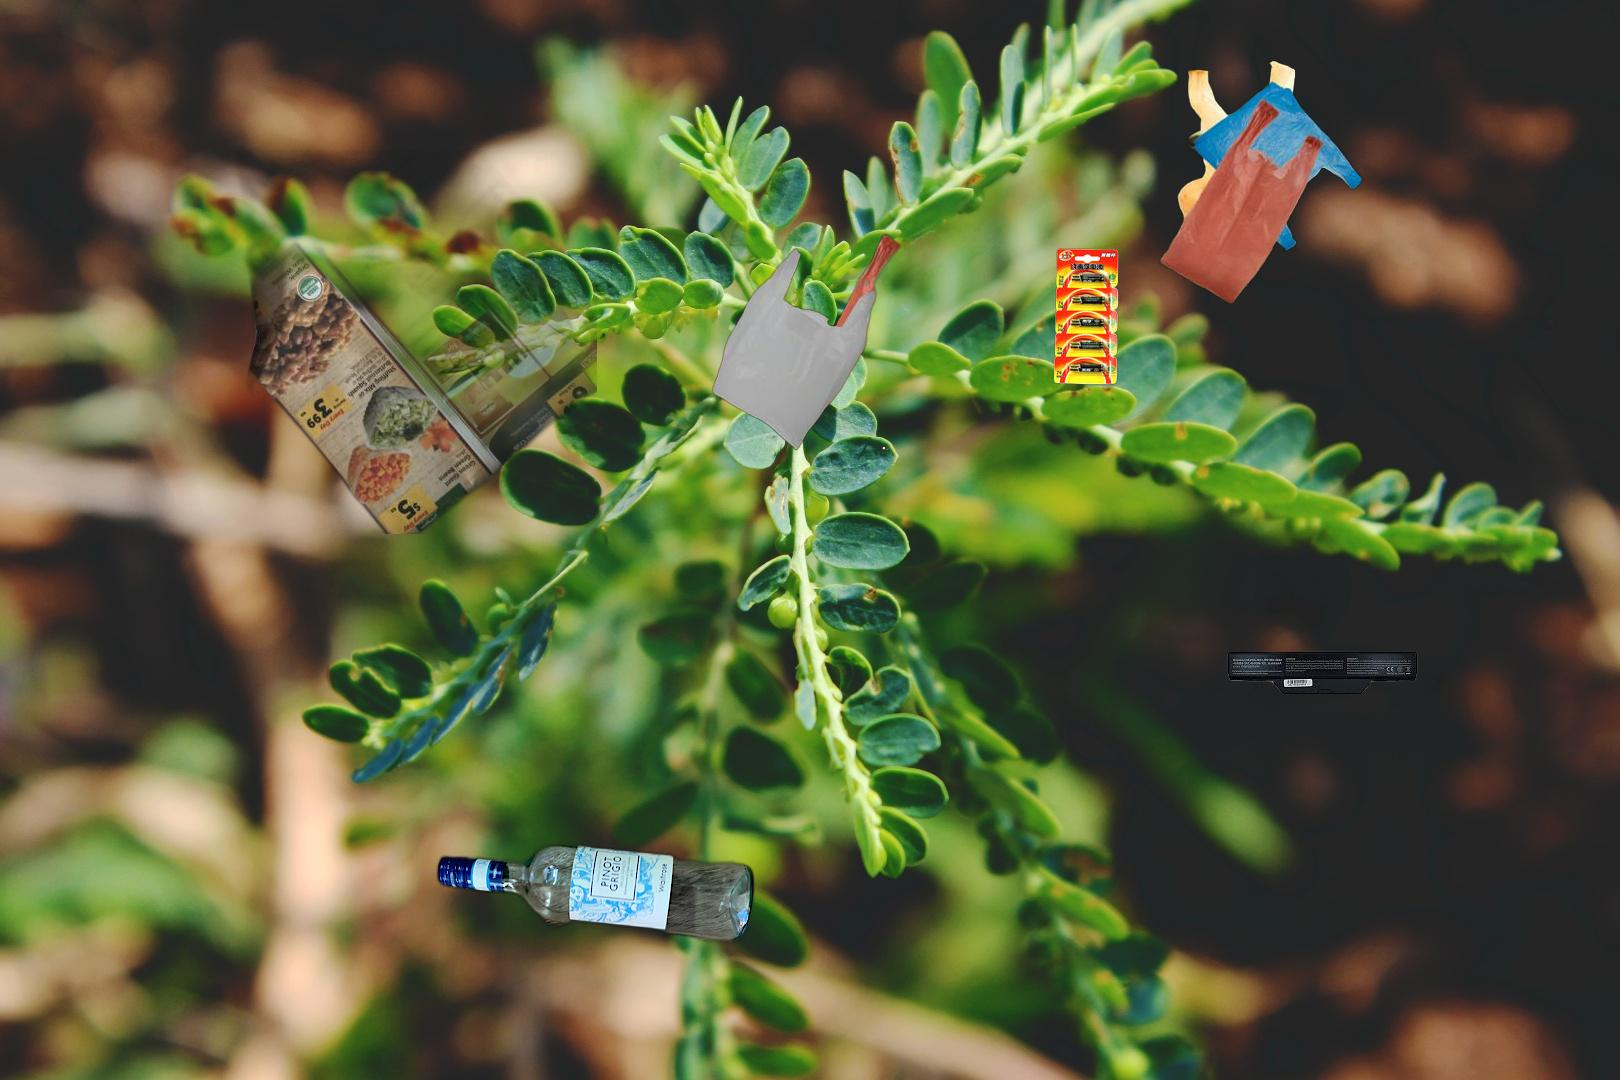battery: (1051, 246, 1121, 387), (1225, 648, 1420, 697)
glass: (432, 839, 759, 949)
paper: (187, 149, 597, 534)
paper-bag: (1563, 1078, 1620, 1080)
plastic-bag: (710, 228, 946, 453), (1157, 58, 1364, 307)
